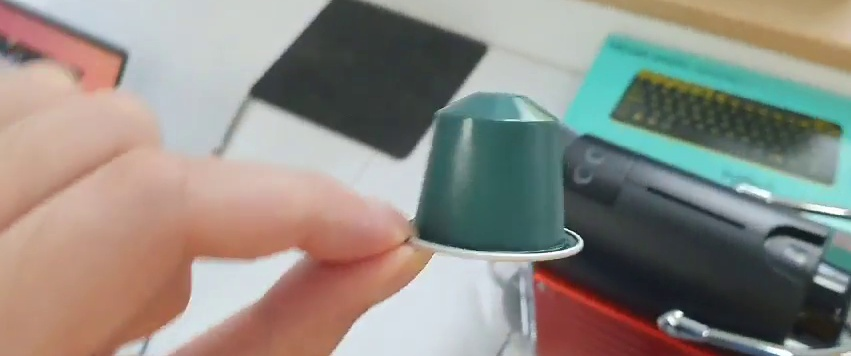capsule_13: (408, 92, 591, 264)
